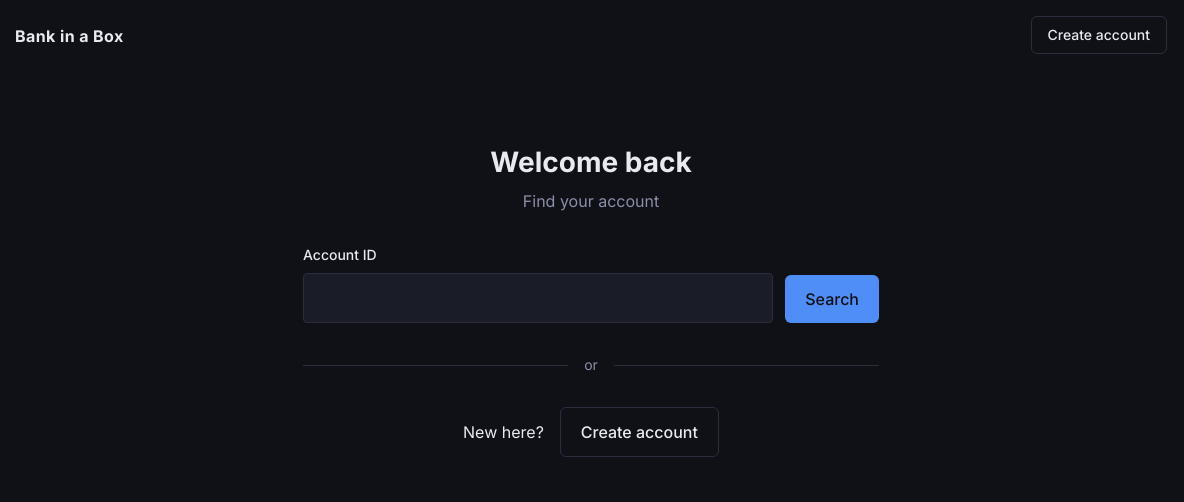
Test: HomePage account search › requires an account ID before searching
The image size is (1184, 502).
What coordinates should you click on to do the following:
click the button "Search"
I would click on:
 (832, 299)
Its box is top-left (785, 275), bottom-right (879, 323).
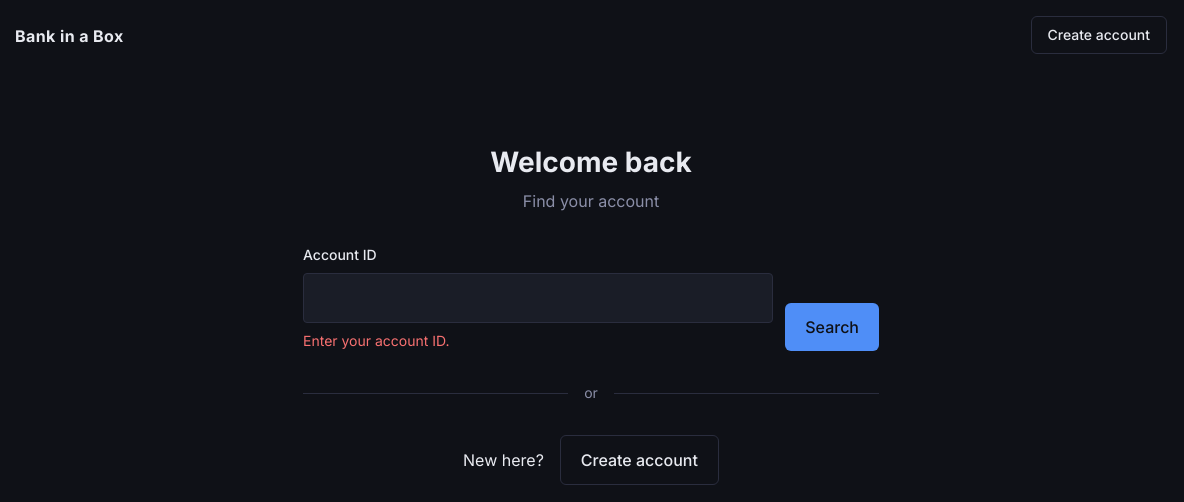
Expected: the text "Enter your account ID." is shown, top-left (303, 332), bottom-right (450, 349)
